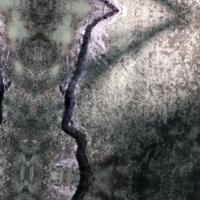crack: (50, 0, 120, 199)
